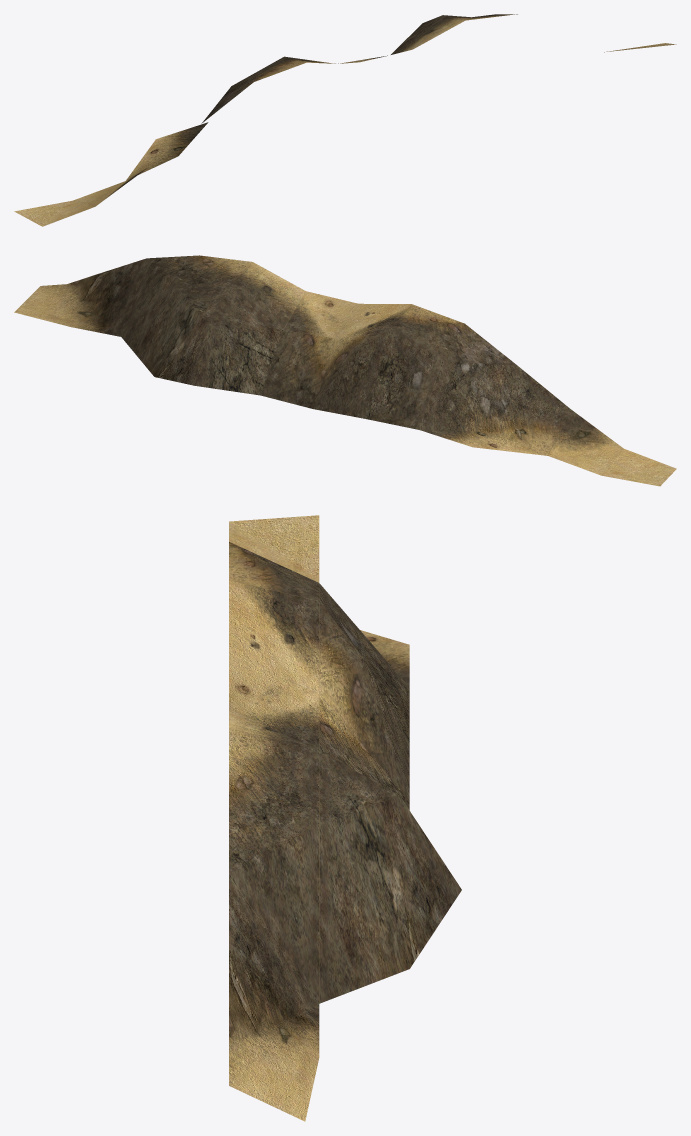
The model's file is M4_Background_Mountains.glb.
3 views of the same model, one above another, from view 1: azimuth 30°, elevation 25°; view 2: azimuth 150°, elevation 25°; view 3: azimuth 270°, elevation 25° (orthographic). The views are drawn at different scales.
Visible parts, largest first — view 1: M4_BACKGROUND_MOUNTAINS; view 2: M4_BACKGROUND_MOUNTAINS; view 3: M4_BACKGROUND_MOUNTAINS.
Part boxes in pixels (bbox=[...]): M4_BACKGROUND_MOUNTAINS: bbox=[14, 14, 676, 226]; M4_BACKGROUND_MOUNTAINS: bbox=[14, 255, 676, 486]; M4_BACKGROUND_MOUNTAINS: bbox=[229, 515, 461, 1121].
Bounding box in the file's own units: 66.17 × 10.37 × 10.31.
11 materials, 11 textured.
